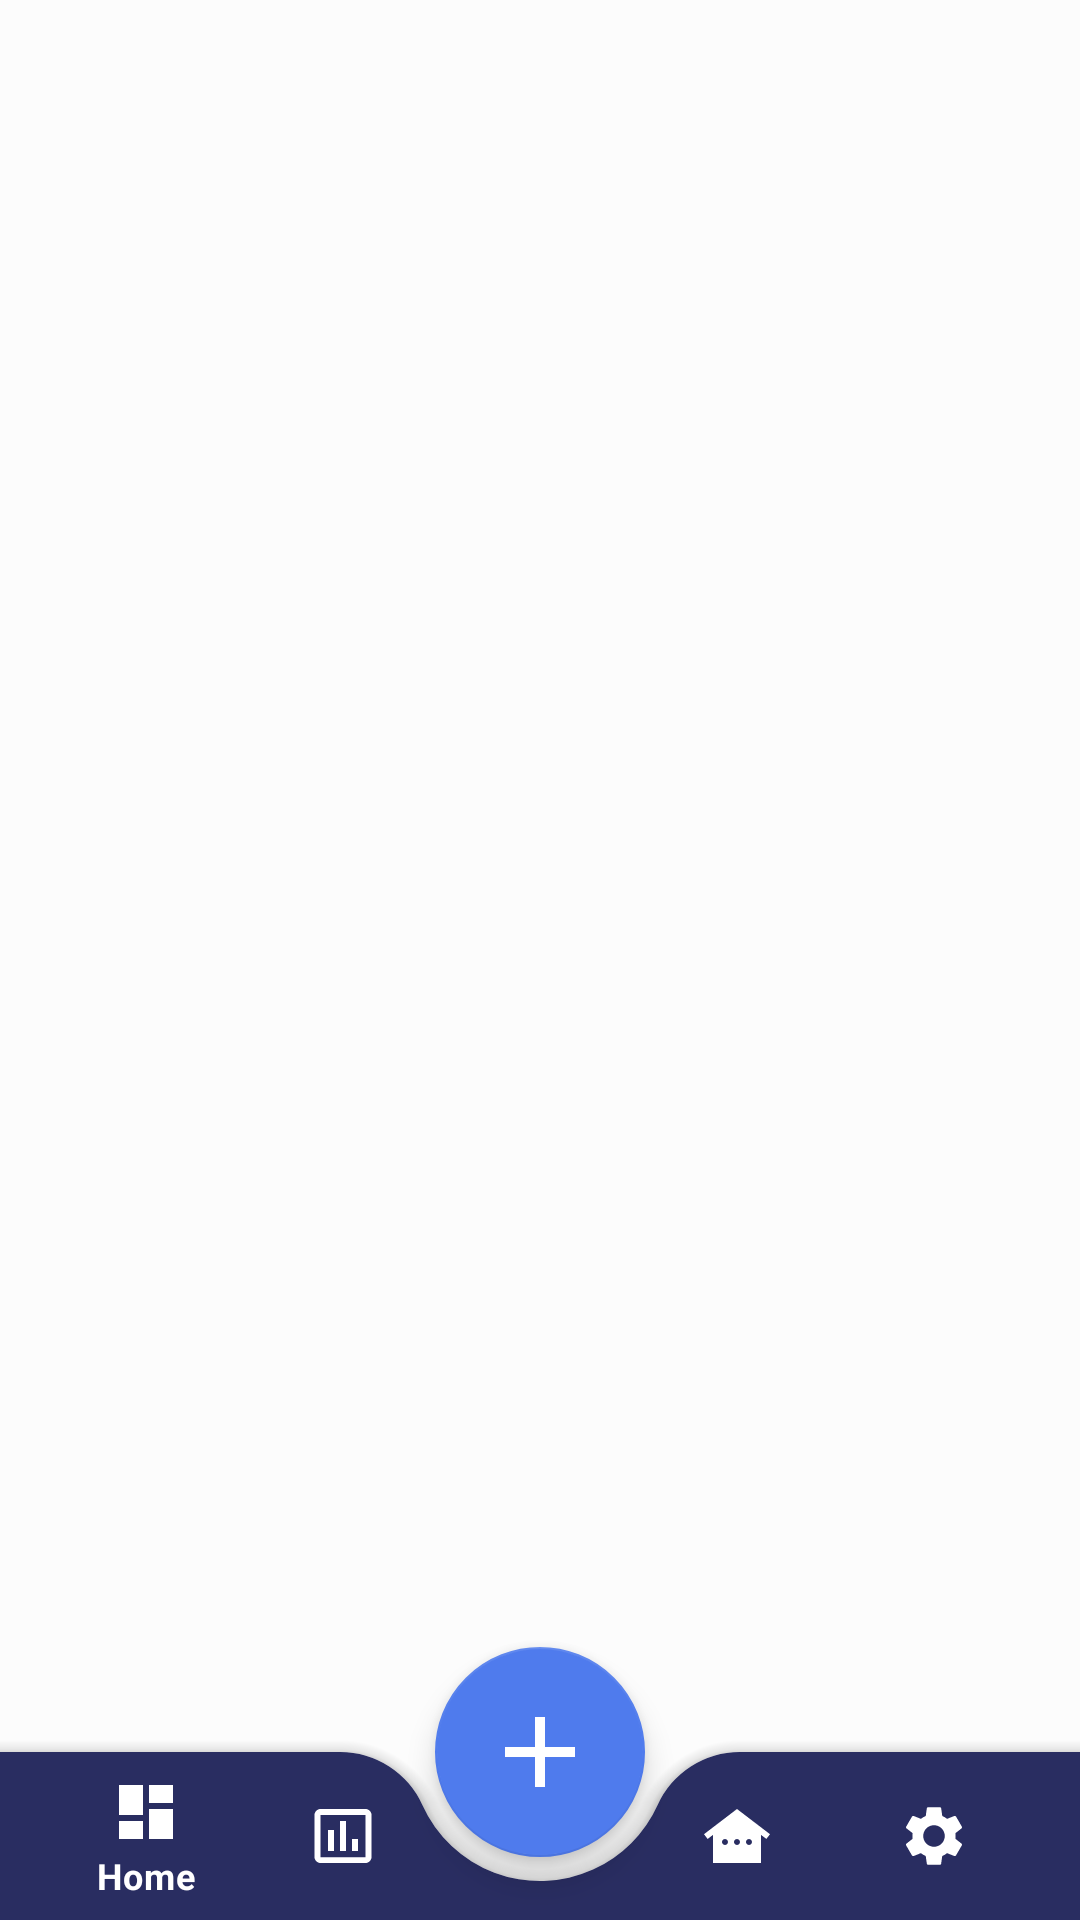

Where to tap for icons on this 1080px x 1920px app screen, as [x,y]:
add: [540,1752]
